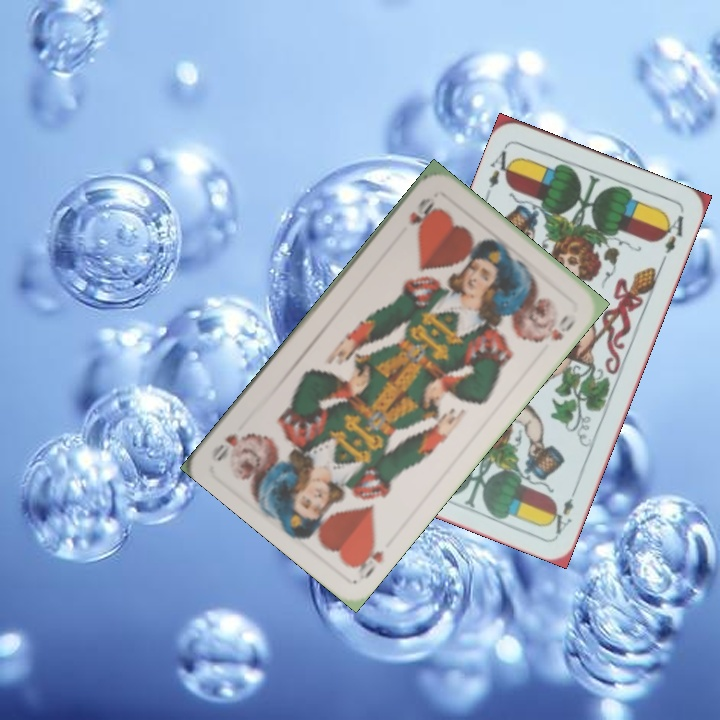EA: (546, 481, 581, 537), (485, 146, 518, 191)
HO: (348, 534, 386, 582), (405, 193, 438, 229)
